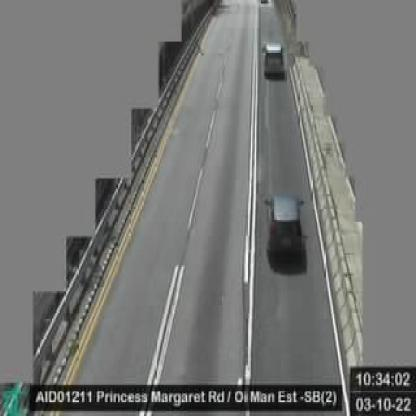Car: (263, 192, 304, 260), (260, 45, 286, 80)
